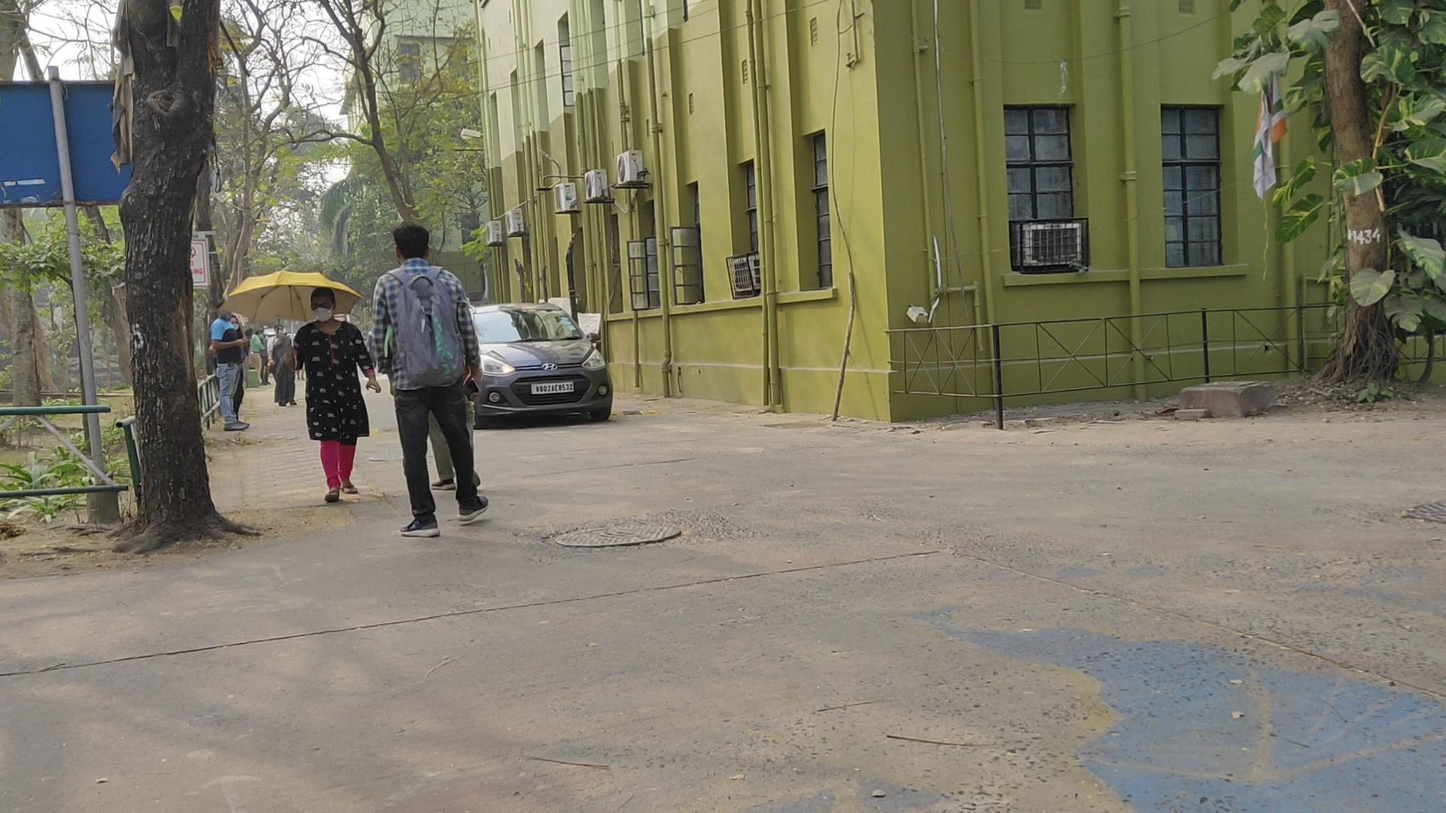car: (453, 303, 614, 430)
